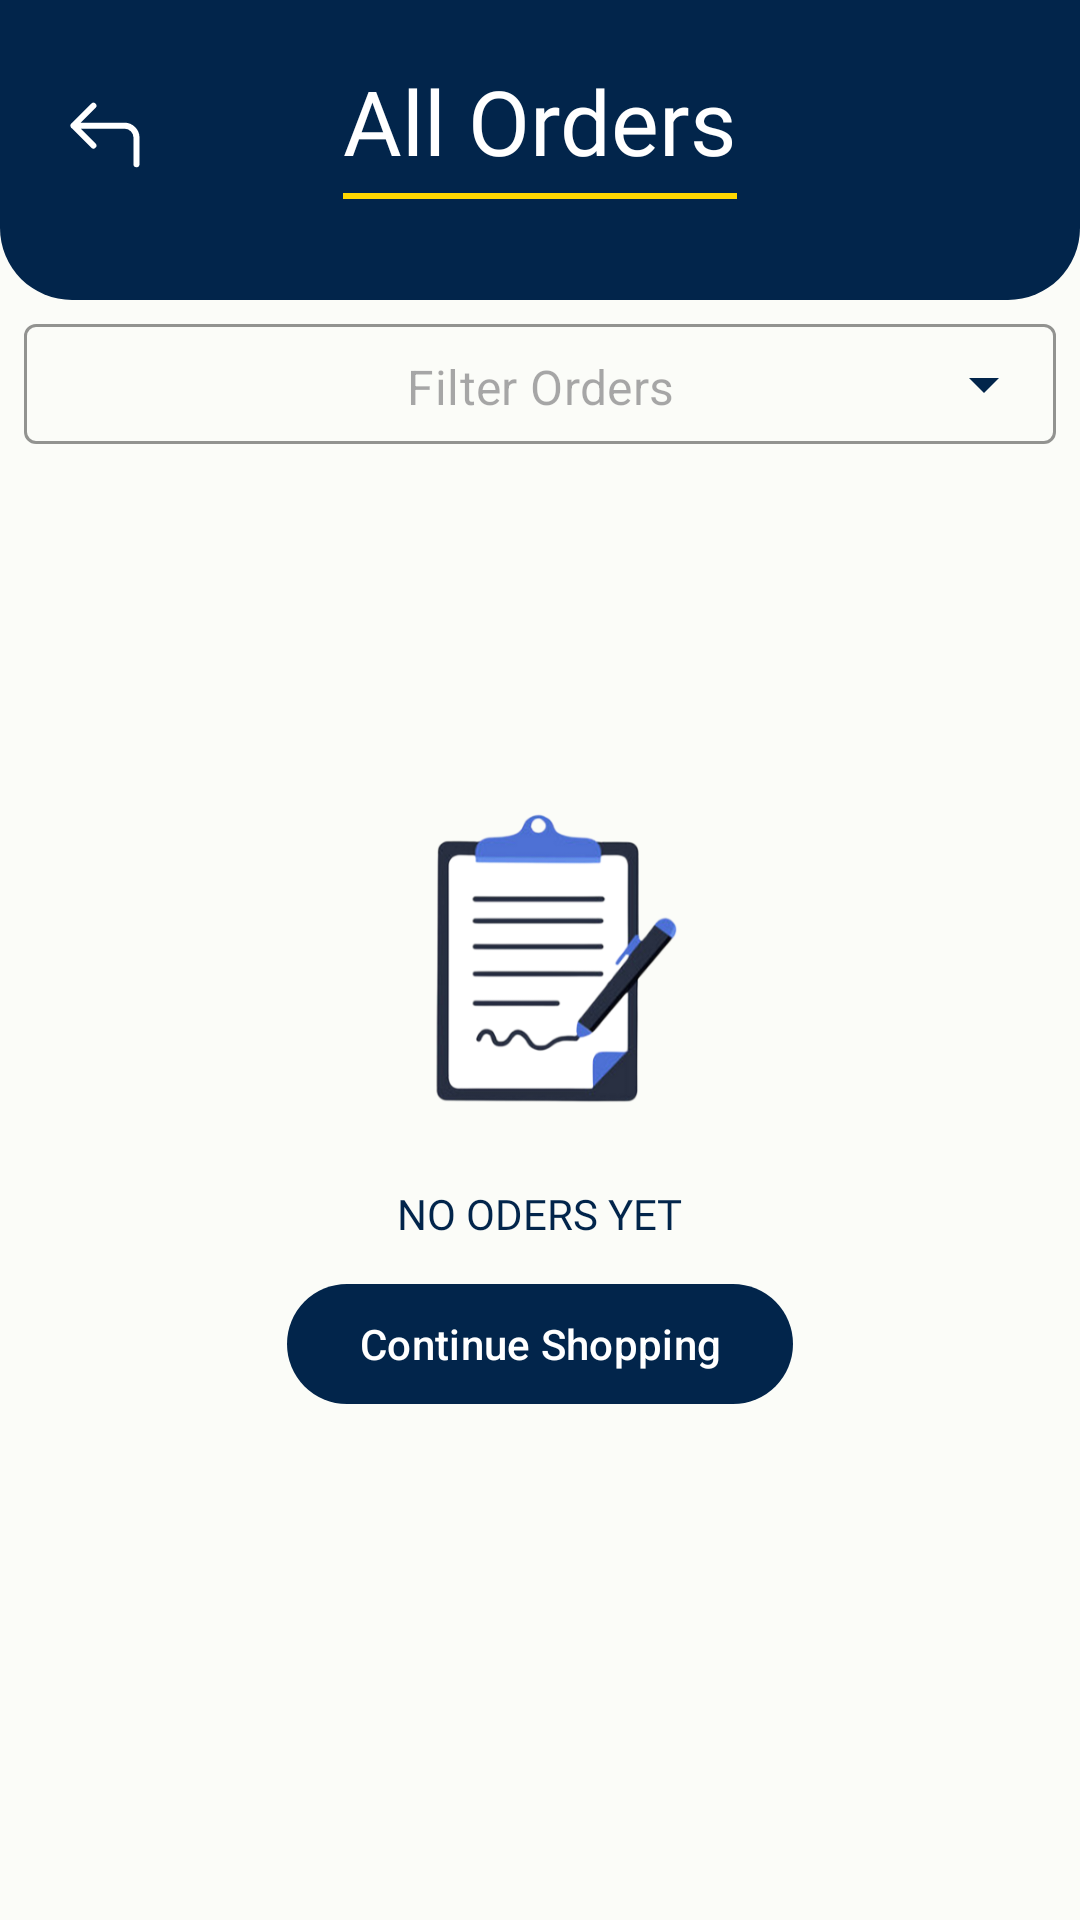

Icons on this 1080px×1920px Android screen, each with its box as box=[x1, y1, x2, y2]:
back: box=[70, 102, 140, 168]
empty: box=[436, 815, 677, 1102]
